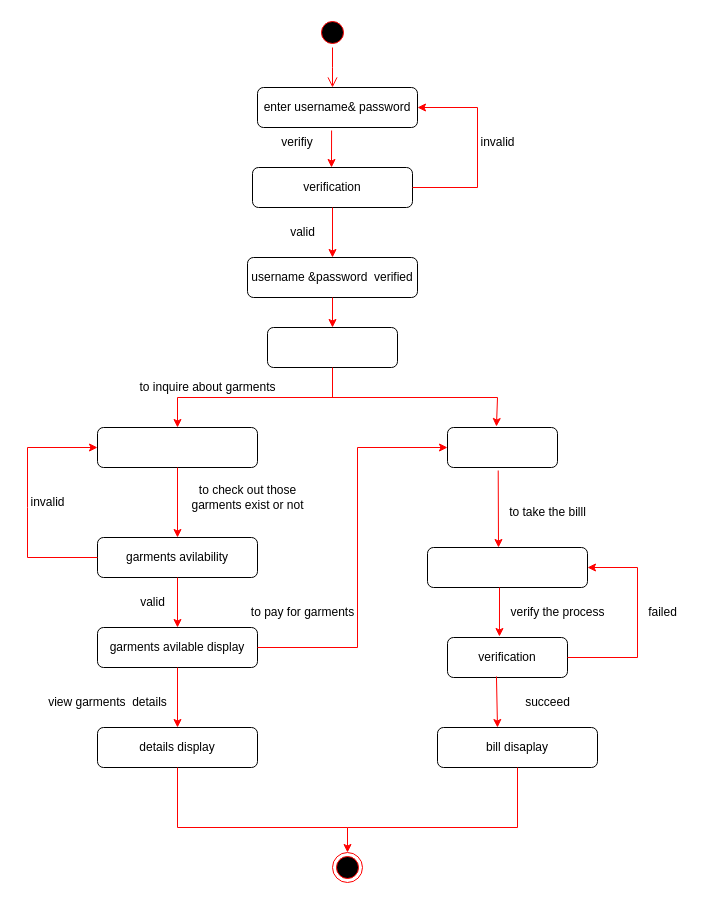
Some shapes in this 704 by 900 pixel diagram are drawn without their labels. Each missing label, with the box of its shape:
garments inquire: (96, 426, 258, 468)
login: (266, 326, 398, 368)
pay: (446, 426, 558, 468)
request the bill: (426, 546, 588, 588)
